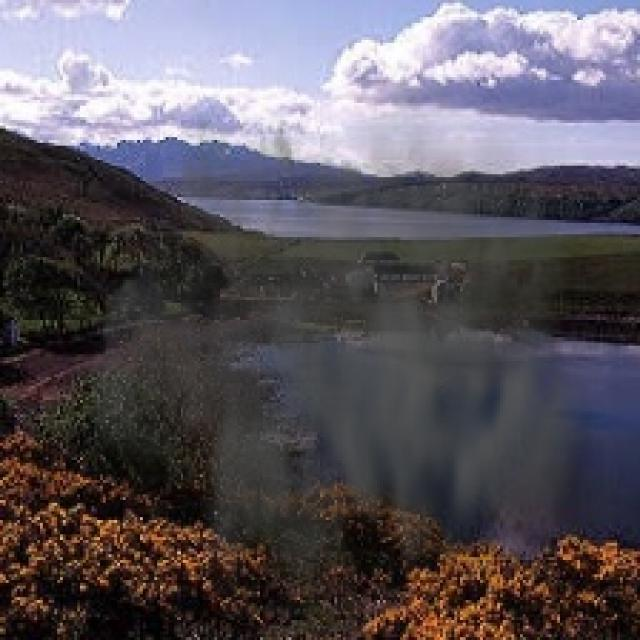smoke: (94, 63, 620, 617)
